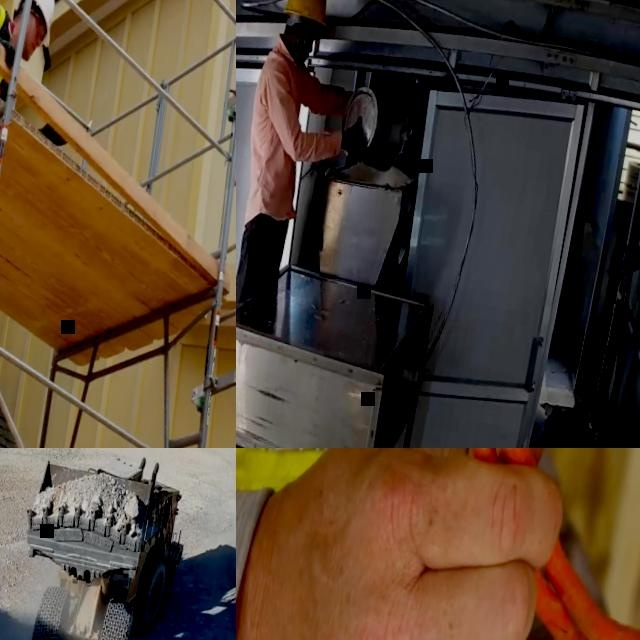Hardhat: (11, 0, 59, 47), (278, 0, 334, 28)
Mask: (294, 35, 310, 66)
NO-Mask: (22, 28, 38, 63)
NO-Safety Vest: (236, 50, 322, 227)
Person: (236, 448, 640, 640), (236, 0, 395, 448), (0, 0, 58, 101)
Safety Vest: (236, 448, 548, 535)
machinery: (0, 448, 199, 640)
